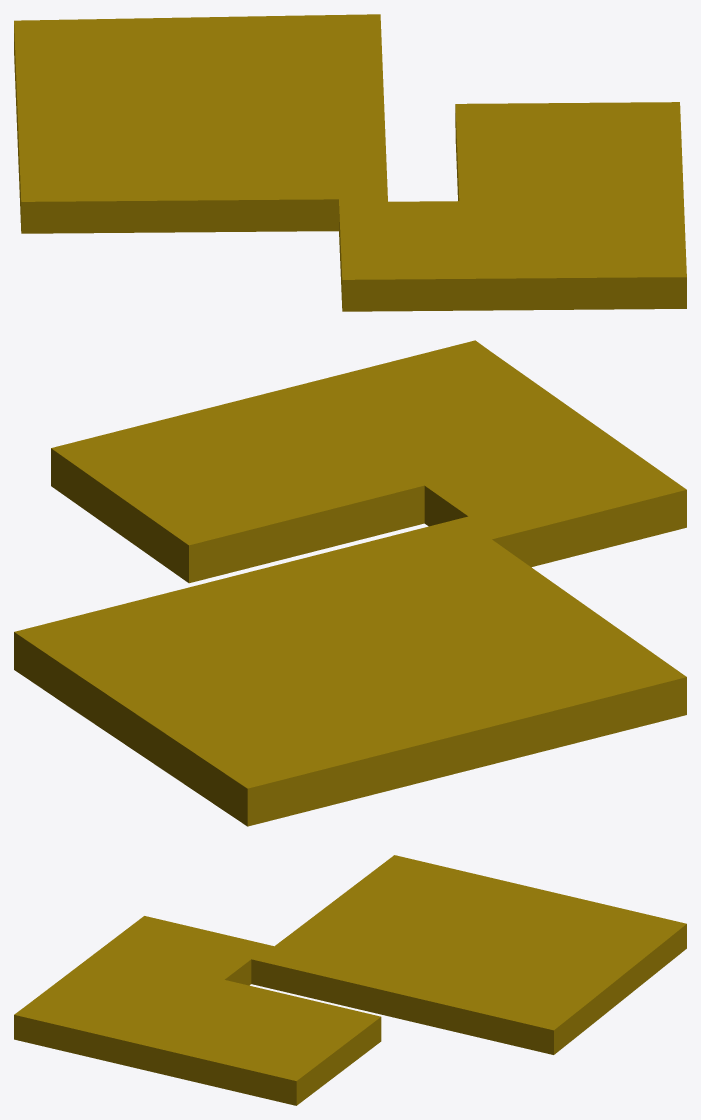
3 renders of one model, top to bottom at view 1: azimuth 30°, elevation 25°; view 2: azimuth 150°, elevation 25°; view 3: azimuth 270°, elevation 25°, orthographic. The views are drawn at different scales.
Parts seen in each view (by area): view 1: 港池; view 2: 港池; view 3: 港池.
Part boxes in pixels (x1=…): 港池: x1=14, y1=14, x2=686, y2=311; 港池: x1=14, y1=340, x2=686, y2=826; 港池: x1=14, y1=855, x2=686, y2=1105.
Bounding box in the file's own units: 60.87 × 3.18 × 76.42.
